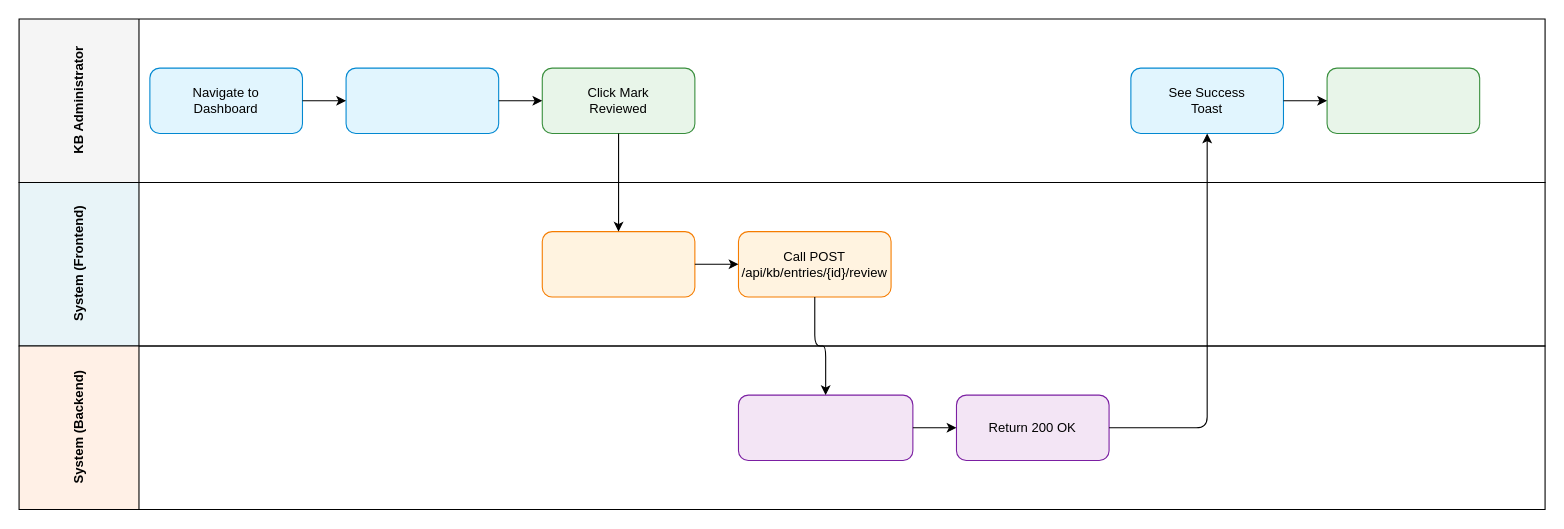
This 1564x529 diagram has some shape labels left out. Here are the shapes that lost their labels. From the top down, the centre of each, then its label:
the point at 422,100: View Due Reviews Table
the point at 1403,100: Entry Removed from Table
the point at 618,264: Show Loading State
the point at 825,427: Reset staleness=0 Update last_reviewed_at
